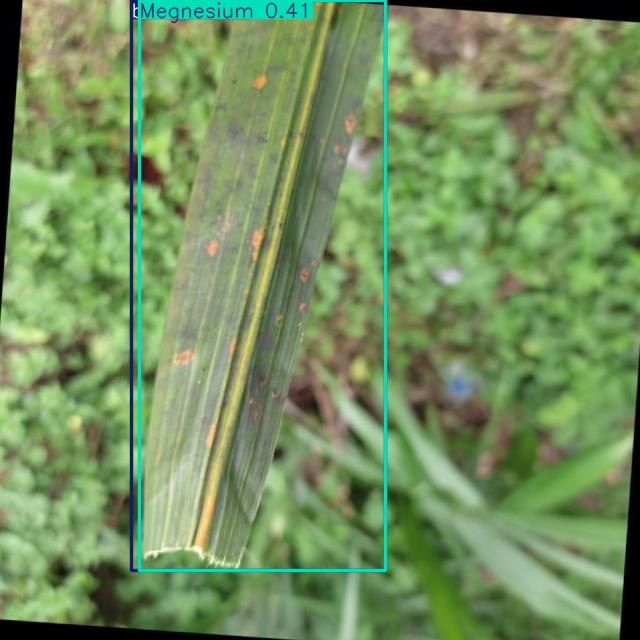Megnesium: (139, 0, 386, 571)
nitrogen: (131, 0, 386, 570)
